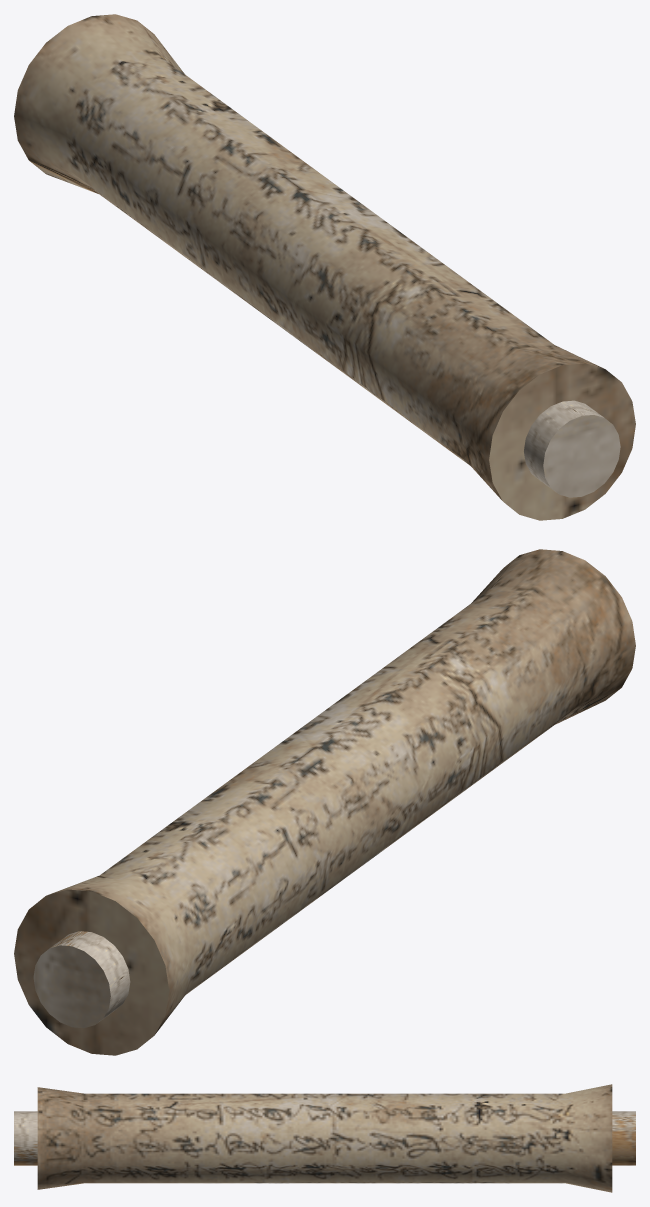
The model's file is scroll1.fbx.
3 views of the same model, one above another, from view 1: azimuth 30°, elevation 25°; view 2: azimuth 150°, elevation 25°; view 3: azimuth 270°, elevation 25° (orthographic). The views are drawn at different scales.
Visible parts, largest first — view 1: scroll1; view 2: scroll1; view 3: scroll1.
Boxes of the visible parts, left/top/right/bottom form: scroll1: left=14, top=14, right=635, bottom=520; scroll1: left=14, top=549, right=635, bottom=1055; scroll1: left=14, top=1084, right=635, bottom=1192.
Size of the model in its own units: 3.73 by 3.73 by 21.23.
Materials: 1 (1 with a texture image).
